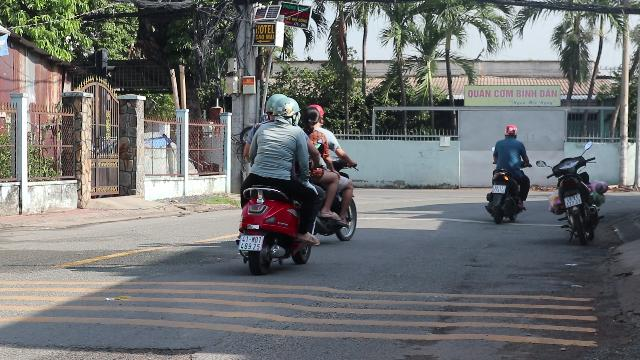helmet: (274, 96, 300, 125), (264, 93, 286, 111), (305, 103, 323, 117)
licenseplate: (239, 236, 263, 251)
motorcyclist: (230, 90, 326, 274)
nohelmet: (301, 106, 321, 132)
